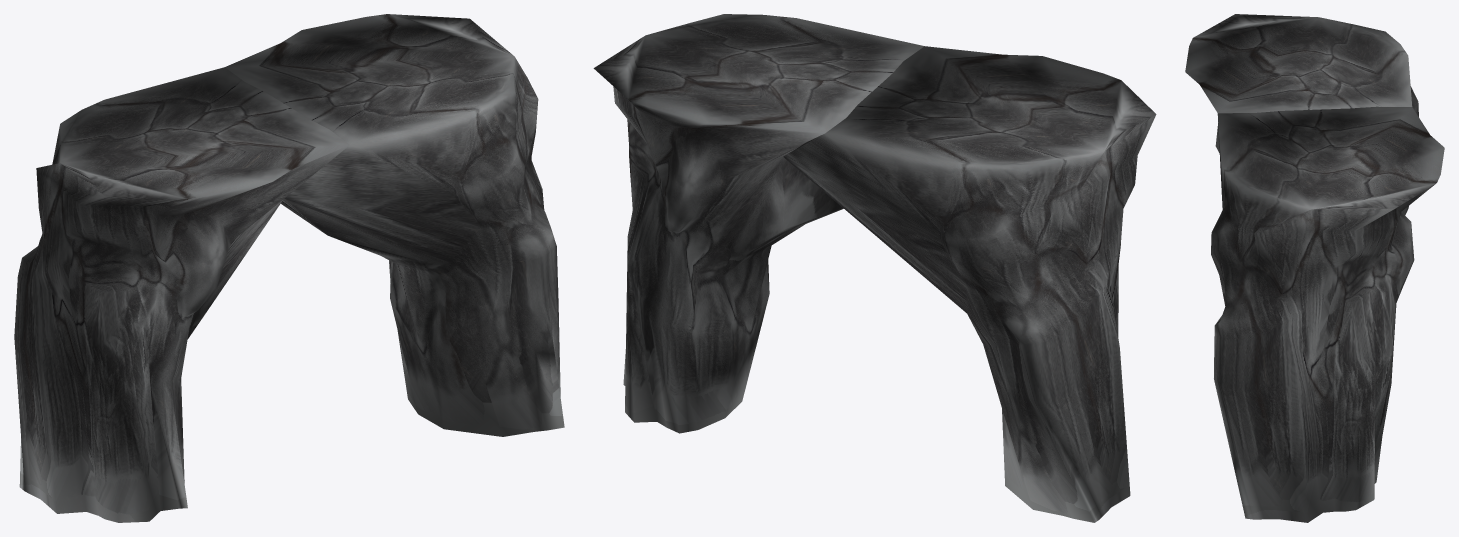
The model's file is Rock3_002.fbx.
The picture shows the model from 3 angles, left to right: view 1: azimuth 30°, elevation 25°; view 2: azimuth 150°, elevation 25°; view 3: azimuth 270°, elevation 25°; orthographic projection. The views are drawn at different scales.
Visible parts, largest first — view 1: rock1.001; view 2: rock1.001; view 3: rock1.001.
Part boxes in pixels (<box>): rock1.001: <box>14,14,564,522</box>; rock1.001: <box>593,14,1156,522</box>; rock1.001: <box>1185,14,1444,522</box>.
Bounding box in the file's own units: 1357 × 927 × 709.
